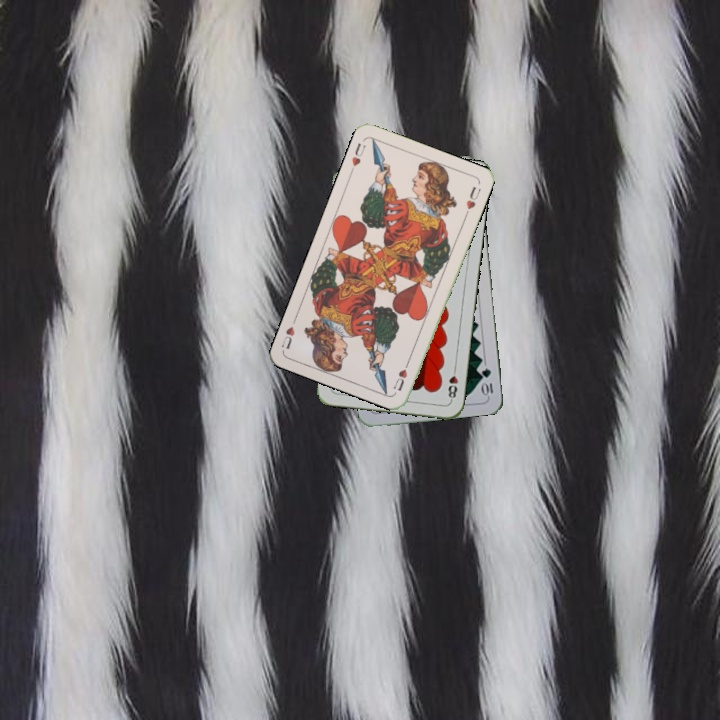G10: (478, 364, 496, 399)
H8: (444, 363, 460, 403)
HU: (390, 356, 412, 394), (348, 139, 369, 169)
